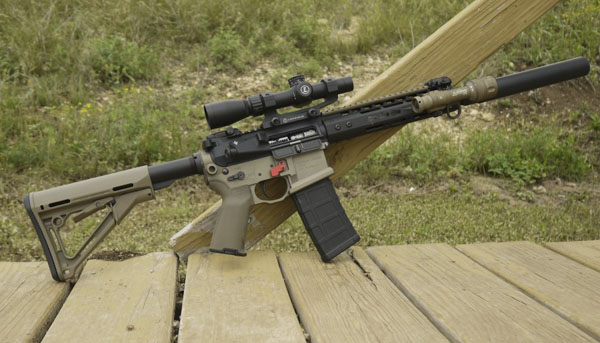Rifle: (26, 55, 593, 281)
